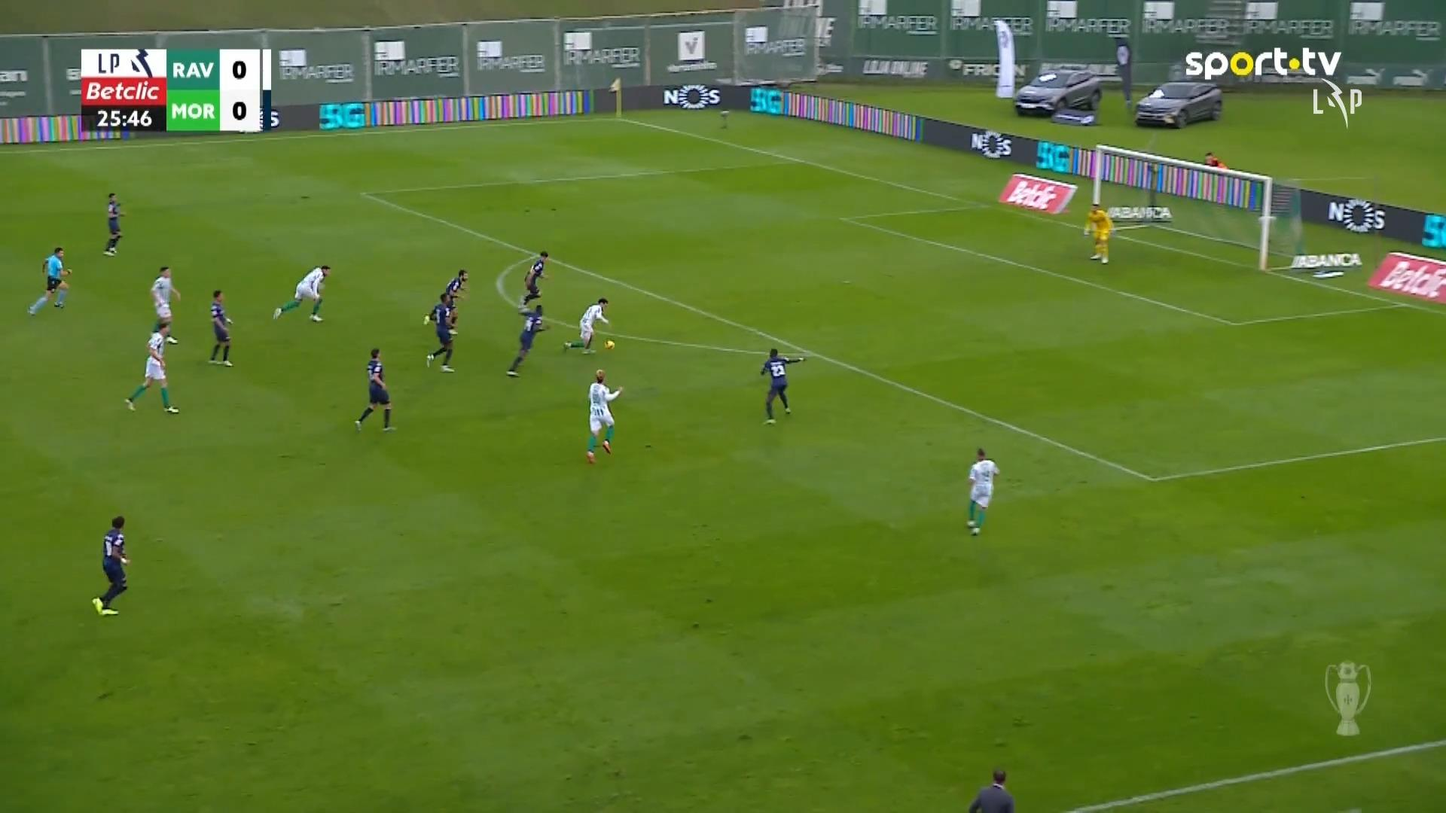ball: (91, 596, 102, 609), (603, 339, 615, 349)
goalkeeper: (1083, 202, 1112, 263)
player: (124, 318, 179, 413), (91, 514, 130, 616), (584, 368, 624, 464), (353, 347, 397, 432), (759, 346, 805, 425), (272, 263, 331, 322), (505, 303, 550, 376), (966, 447, 999, 535), (423, 292, 458, 372), (563, 297, 609, 354), (150, 265, 180, 344), (207, 289, 233, 366), (519, 250, 549, 312), (442, 268, 468, 328), (102, 192, 125, 255)
referee: (27, 245, 72, 315), (968, 768, 1014, 811)
